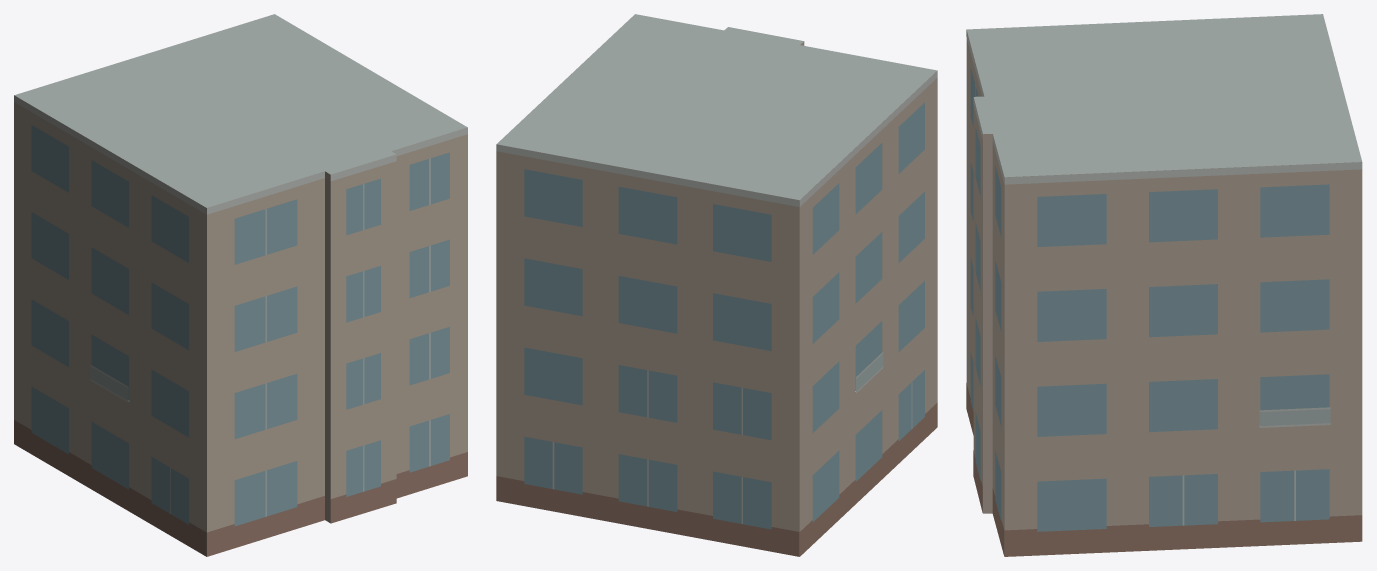
The model's file is survey-upis-32976188.glb.
3 views of the same model, side by side, from view 1: azimuth 30°, elevation 25°; view 2: azimuth 150°, elevation 25°; view 3: azimuth 270°, elevation 25° (orthographic). The views are drawn at different scales.
Parts seen in each view (by area): view 1: survey-upis-32976188.tmp; view 2: survey-upis-32976188.tmp; view 3: survey-upis-32976188.tmp.
Boxes of the visible parts, x1,y1,x2,y2 form: survey-upis-32976188.tmp: [14, 14, 467, 556]; survey-upis-32976188.tmp: [496, 14, 937, 556]; survey-upis-32976188.tmp: [966, 14, 1362, 556].
Size of the model in its own units: 11.58 by 12.55 by 11.87.
